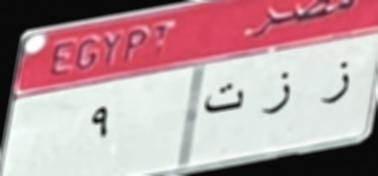9: (86, 98, 118, 143)
taa: (200, 79, 248, 122)
zay: (316, 55, 354, 108), (260, 69, 295, 122)
